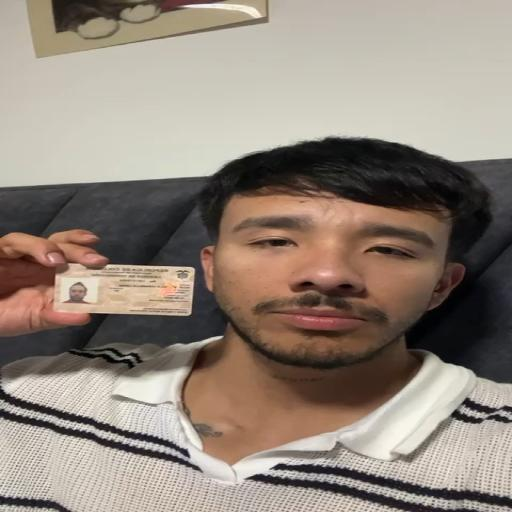tarjeta conduccion: (34, 256, 206, 321)
